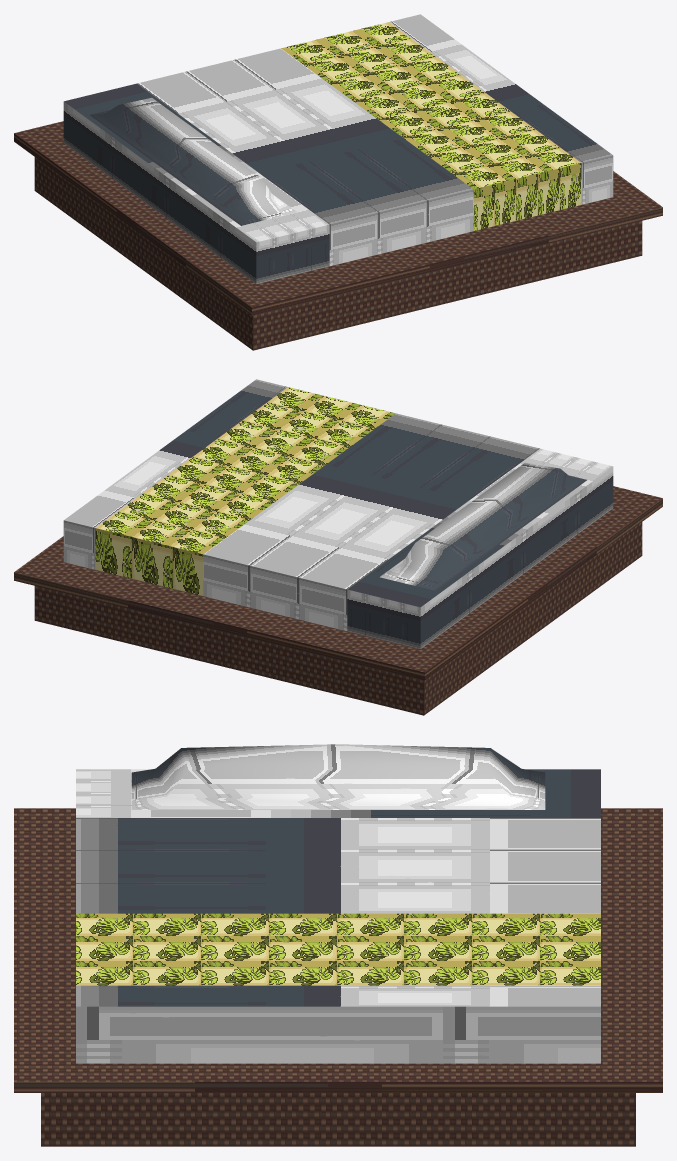
3 renders of one model, top to bottom at view 1: azimuth 30°, elevation 25°; view 2: azimuth 150°, elevation 25°; view 3: azimuth 270°, elevation 25°, orthographic. The views are drawn at different scales.
Visible parts, largest first — view 1: 3910kg3_gs12; view 2: 3910kg3_gs12; view 3: 3910kg3_gs12.
Part boxes in pixels (x1,y1,x2,y2): 3910kg3_gs12: (14, 14, 662, 350); 3910kg3_gs12: (14, 379, 662, 715); 3910kg3_gs12: (14, 744, 662, 1146).
Size of the model in its own units: 1.99 by 0.5771 by 2.
3 materials, 3 textured.
